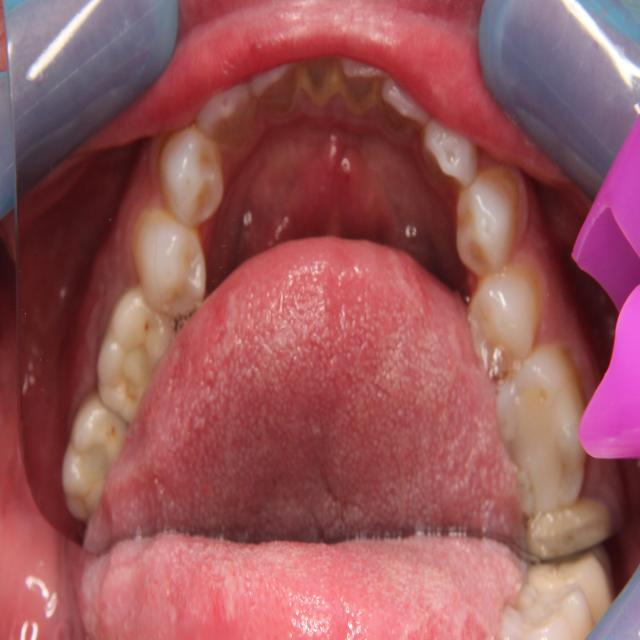tooth: (484, 336, 589, 524), (91, 279, 177, 436), (52, 382, 137, 525), (449, 147, 534, 282), (460, 258, 544, 390), (126, 196, 209, 328), (153, 117, 227, 233), (523, 490, 614, 567), (192, 66, 260, 151), (421, 108, 479, 197), (378, 64, 429, 156), (337, 40, 386, 129), (296, 43, 345, 114), (249, 56, 301, 119)
